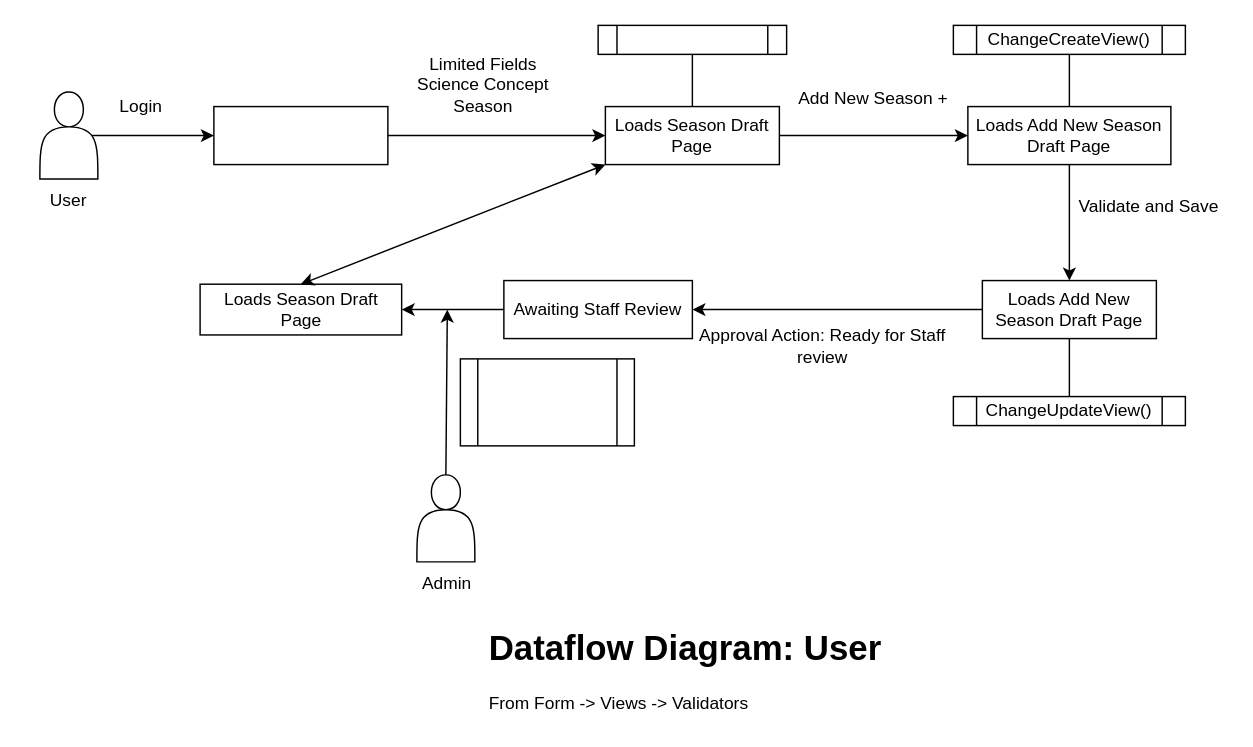
This 1253x747 diagram has some shape labels left out. Each missing label, with the box of its shape:
ADMIN REVIEW PROCESS: (459, 357, 634, 446)
ChangeListView(): (597, 24, 787, 54)
Summary Page: (212, 105, 388, 165)
